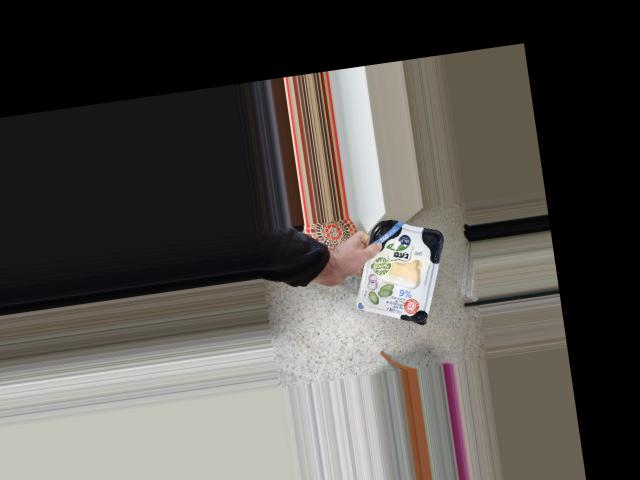cheese: (356, 227, 435, 321)
